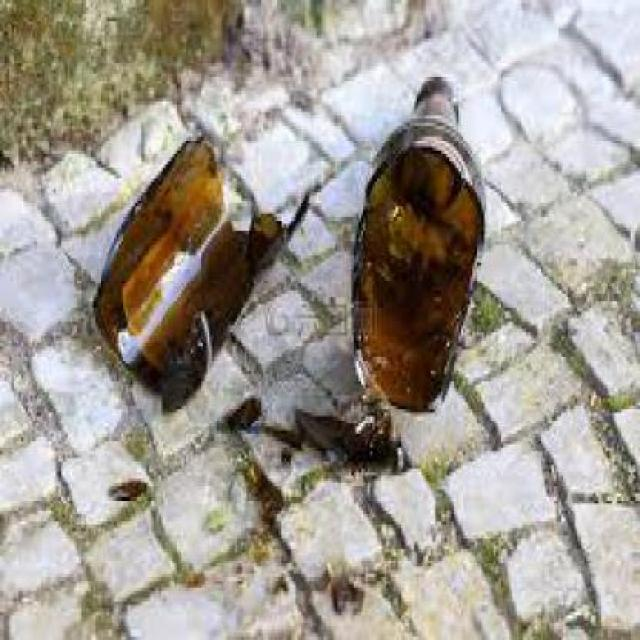kaca: (91, 129, 309, 409), (349, 74, 485, 409), (296, 406, 396, 465), (243, 458, 280, 522), (326, 566, 365, 609), (223, 396, 259, 430), (270, 423, 304, 451), (108, 475, 149, 497), (268, 571, 289, 591), (248, 538, 270, 557), (185, 568, 200, 582)
